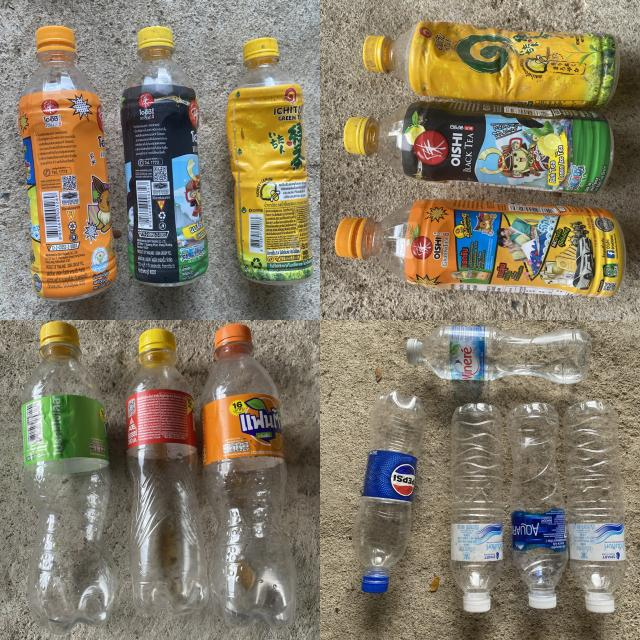plastik: (21, 321, 118, 633), (201, 324, 296, 627), (335, 200, 625, 297), (19, 26, 116, 301), (344, 101, 614, 193), (126, 329, 209, 615), (120, 26, 209, 286), (362, 21, 619, 107), (226, 38, 312, 284), (352, 391, 425, 592), (562, 401, 626, 613), (506, 402, 569, 609), (450, 404, 504, 612), (406, 325, 591, 384)
